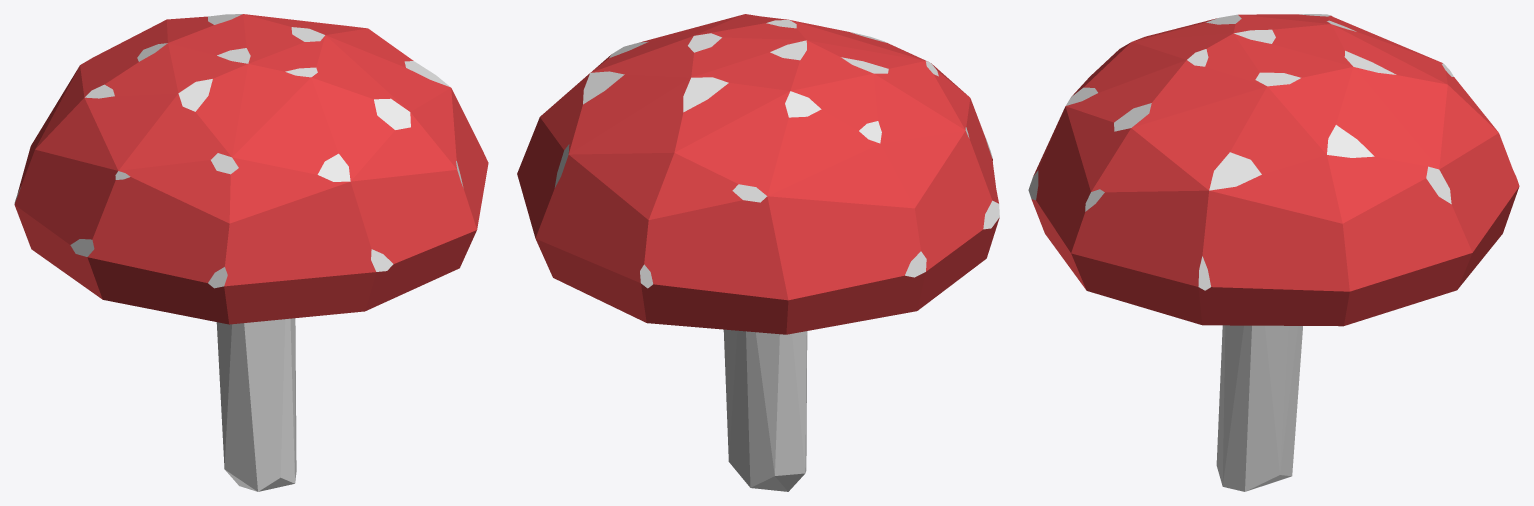
Rendered from Mushroom.glb.
The picture shows the model from 3 angles, left to right: view 1: azimuth 30°, elevation 25°; view 2: azimuth 150°, elevation 25°; view 3: azimuth 270°, elevation 25°; orthographic projection. The views are drawn at different scales.
Parts seen in each view (by area): view 1: Mushroom; view 2: Mushroom; view 3: Mushroom.
Boxes of the visible parts, bbox=[...] form: Mushroom: bbox=[14, 14, 488, 491]; Mushroom: bbox=[517, 14, 999, 491]; Mushroom: bbox=[1028, 14, 1519, 491].
Bounding box in the file's own units: 4.4 × 4.53 × 4.58.
